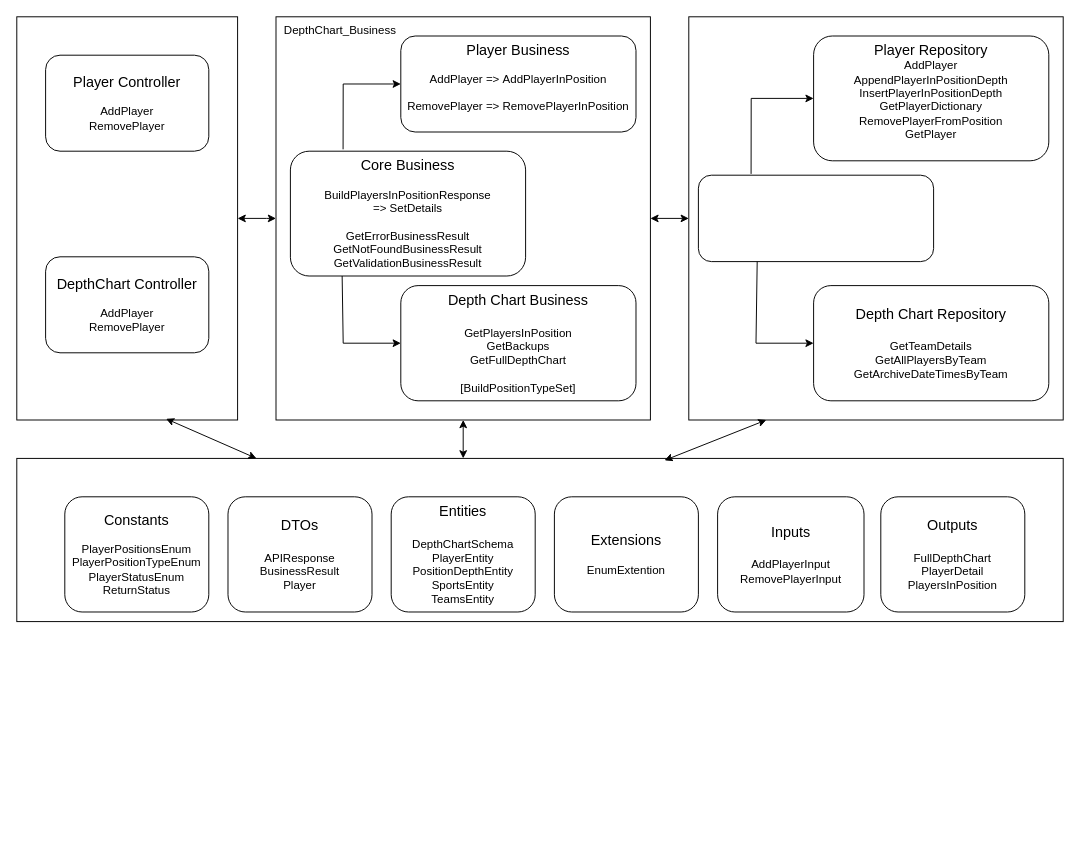
Some shapes in this 1080 by 855 pixel diagram are drawn without their labels. The box of each missing label's shape, as (x1, y1, x2, y2) in pixels:
Core Repository GetSchema SaveChanges GetCurrentPlayersInPosition: (697, 174, 934, 262)
DepthChart_DB: (688, 16, 1063, 420)
DepthChart_Models: (16, 457, 1063, 622)
DepthChart_Service: (16, 16, 238, 420)
